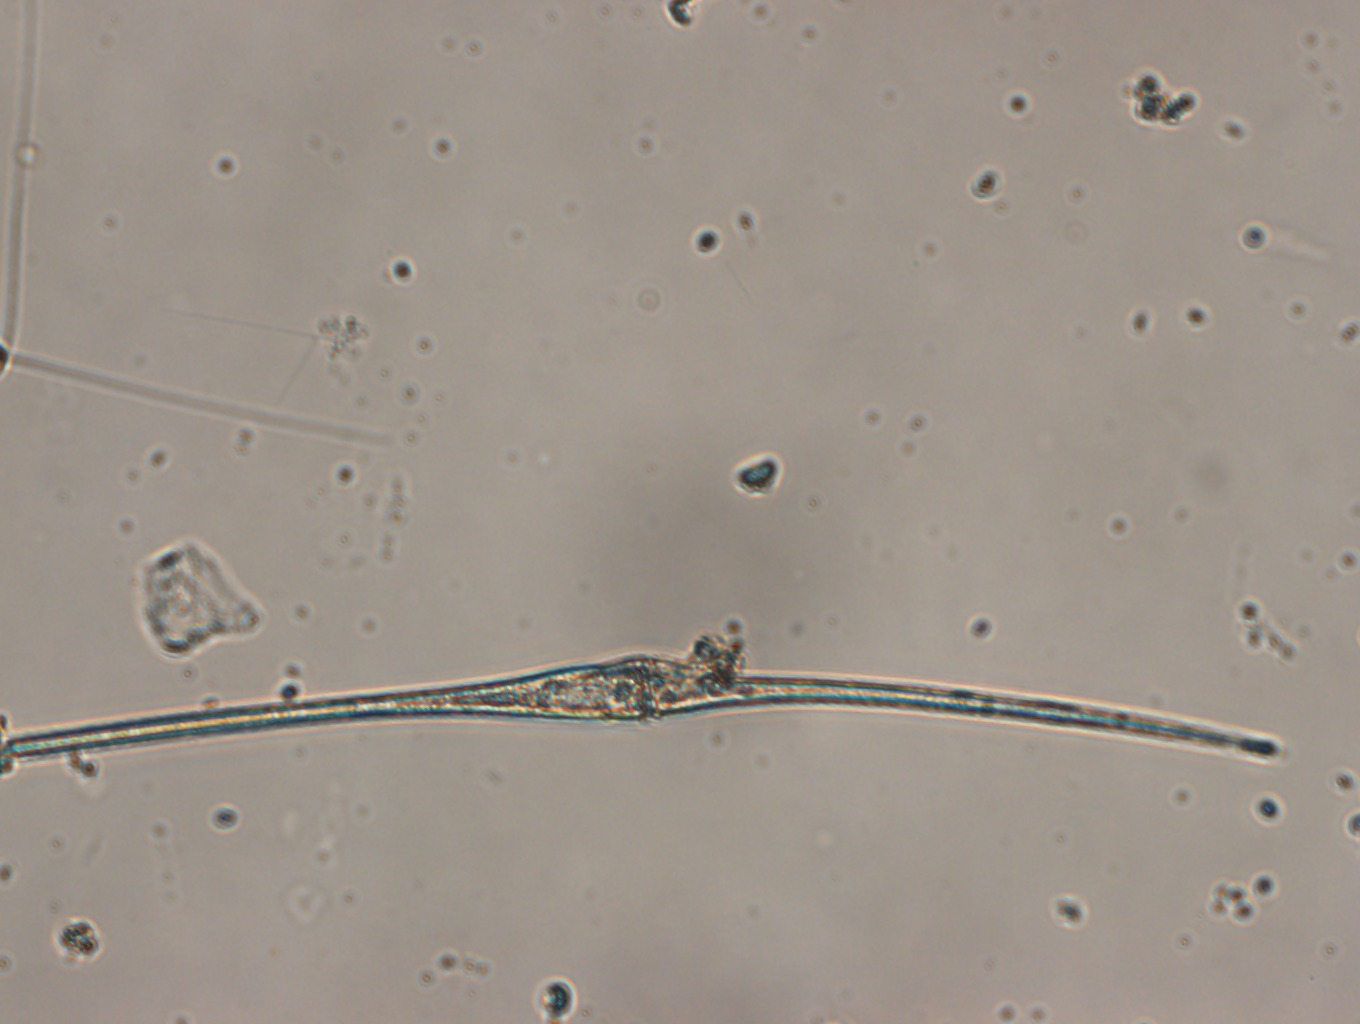ceratium fusus: (2, 655, 1290, 765)
